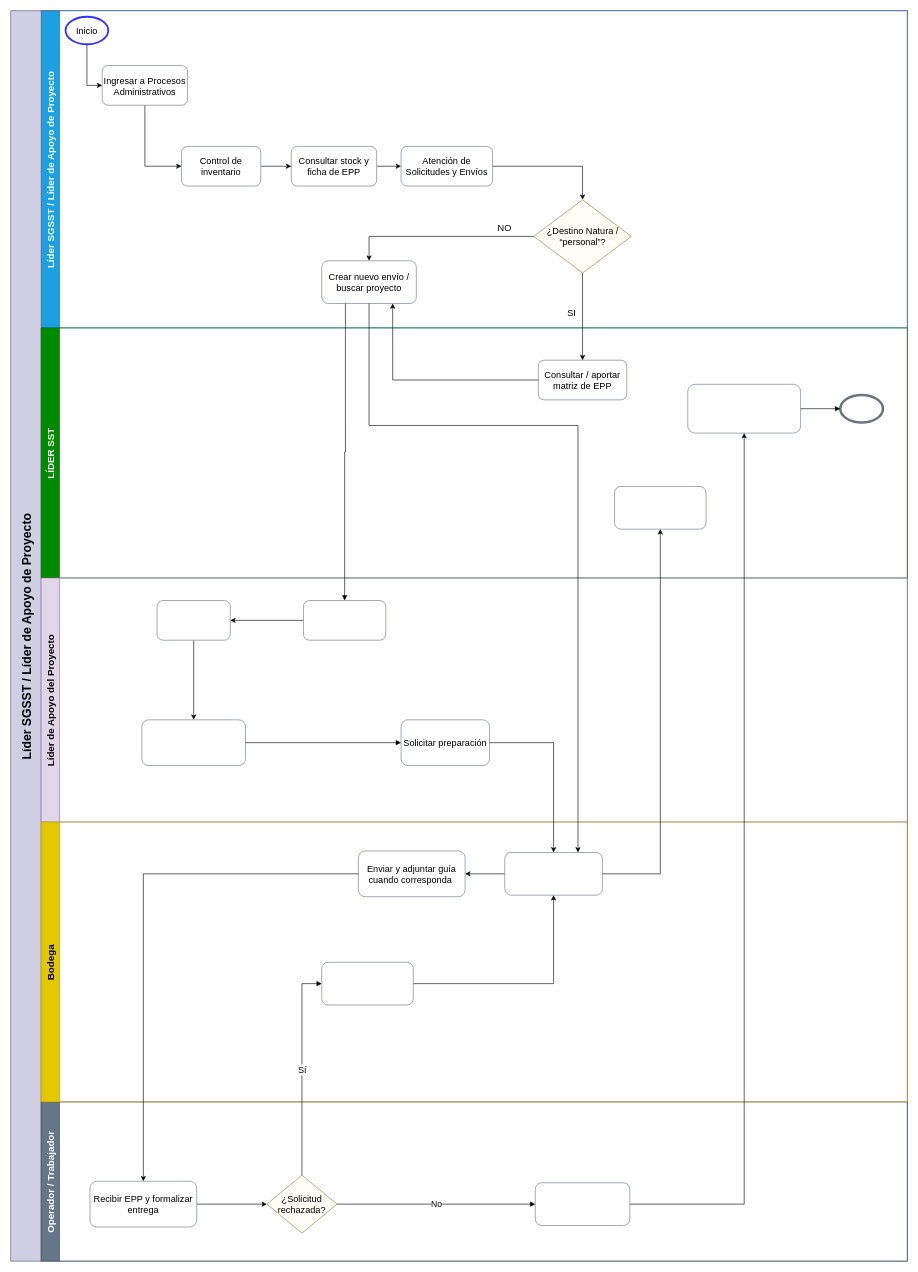
Image size: 918x1272. Some labels were removed from this diagram. Here are the shapes that lost their labels. From the top down, the centre of each, then its label:
(x=744, y=408): Consultar acta firmada / gestión documental
(x=861, y=408): Fin
(x=660, y=507): Entrega directa / gestión con SST o líder
(x=193, y=620): Seleccionar EPP
(x=344, y=620): Seleccionar proyecto
(x=193, y=742): Diligenciar usuario, EPP, cantidad y destino
(x=553, y=873): Preparar y gestionar despacho
(x=367, y=983): Gestionar rechazo / revisar causa
(x=582, y=1203): Generar / firmar acta de entrega
